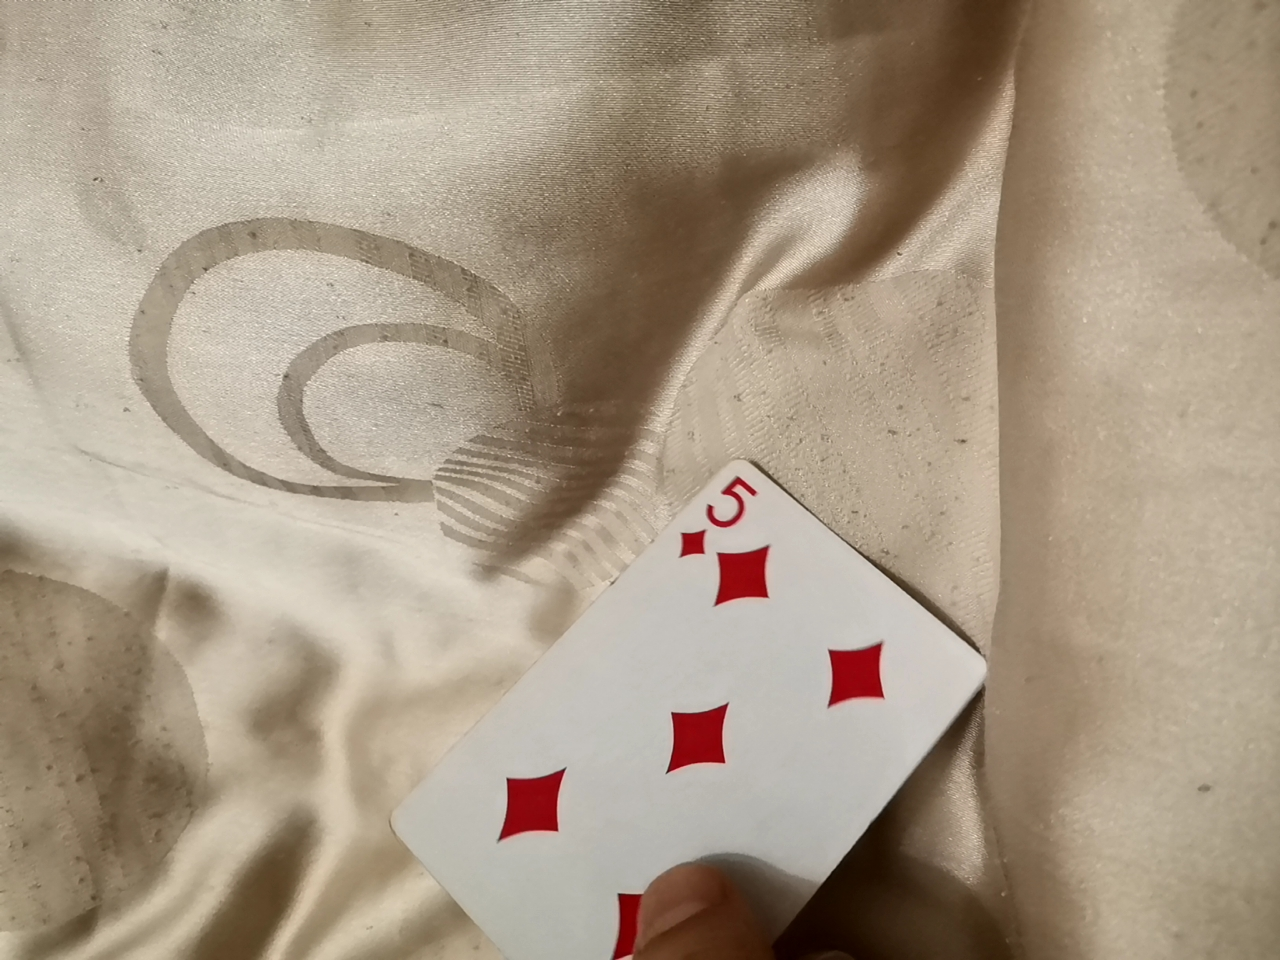fk 5: (365, 461, 958, 955)
